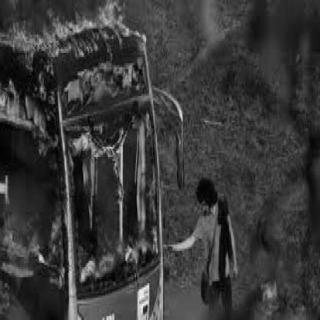Fire: (3, 4, 181, 296)
